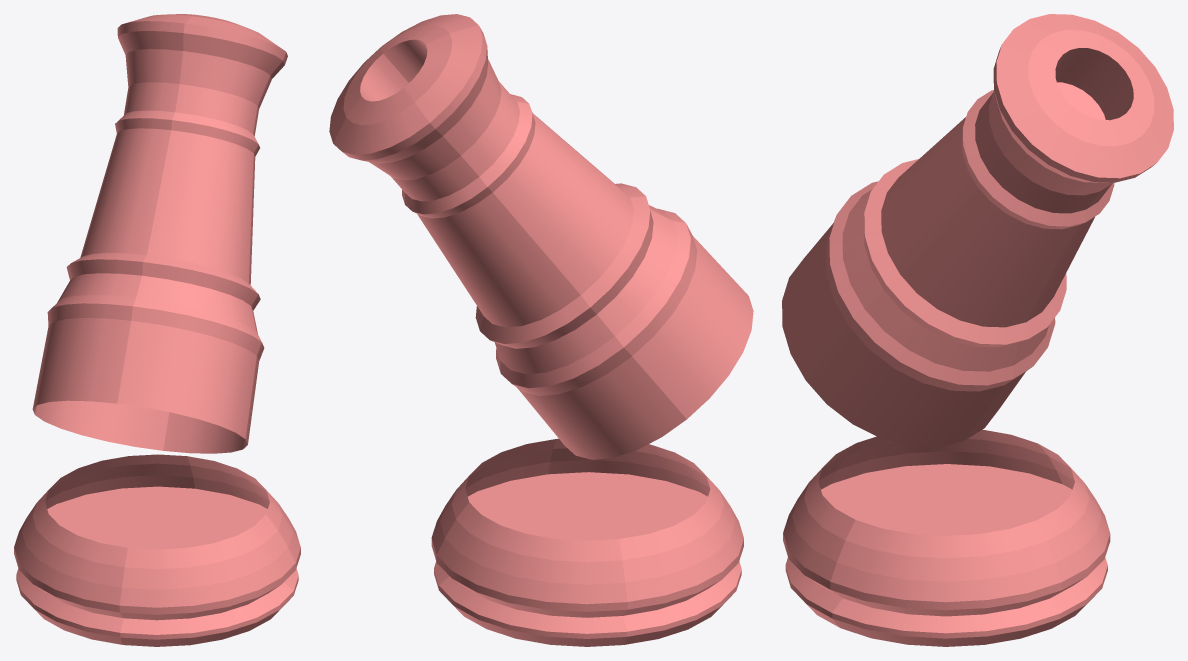
Rendered from cannon2.dae.
3 renders of one model, left to right at view 1: azimuth 30°, elevation 25°; view 2: azimuth 150°, elevation 25°; view 3: azimuth 270°, elevation 25°, orthographic. The views are drawn at different scales.
Parts seen in each view (by area): view 1: Component_2, SketchUp; view 2: Component_2, SketchUp; view 3: Component_2, SketchUp.
Boxes of the visible parts, left/top/right/bottom form: Component_2: left=32, top=14, right=287, bottom=453; SketchUp: left=14, top=454, right=300, bottom=646; Component_2: left=329, top=14, right=753, bottom=459; SketchUp: left=431, top=438, right=743, bottom=646; Component_2: left=782, top=14, right=1173, bottom=447; SketchUp: left=783, top=429, right=1110, bottom=646.
Size of the model in its own units: 42.04 by 41.88 by 70.77.
